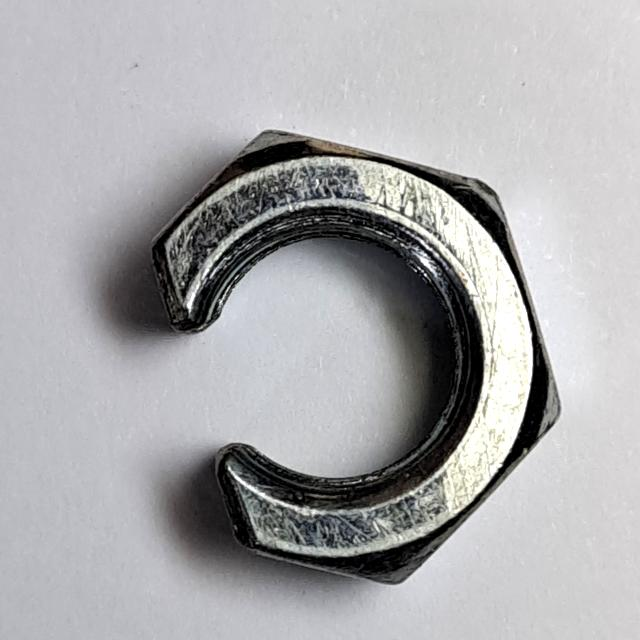Fracture: (139, 124, 569, 600)
